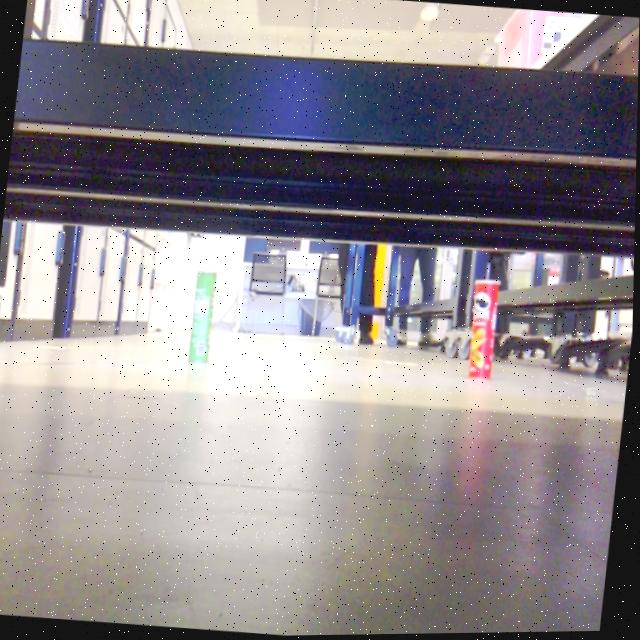greenpringles: (179, 263, 230, 376)
redpringles: (461, 277, 506, 389)
